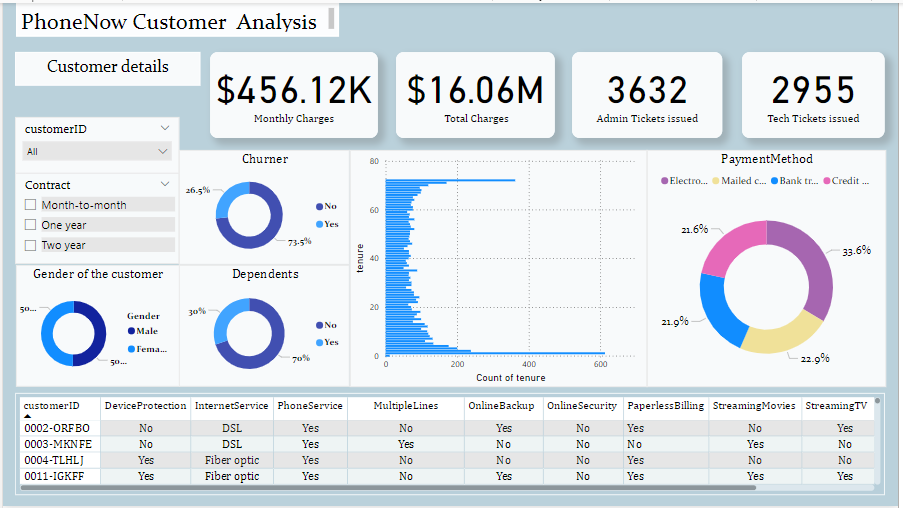

Layout of this report page (visuals, bound fields, positions):
{"tool":"powerbi","page":{"name":"Page 1","canvas":[1280,720],"ordinal":0},"visuals":[{"type":"textbox","box":[18,0,598,48],"z":0},{"type":"textbox","box":[17.5,69.8,265.1,66.7],"z":1000},{"type":"slicer","fields":{"Values":["01 Churn-Dataset.customerID"]},"box":[16.8,137.7,265.4,68.9],"z":2000},{"type":"donutChart","title":" Dependents ","fields":{"Category":["01 Churn-Dataset.Dependents"],"Y":["CountNonNull(01 Churn-Dataset.Dependents)"]},"box":[268.8,374.6,231.8,161.3],"z":3000},{"type":"donutChart","title":"Gender of the customer","fields":{"Category":["01 Churn-Dataset.gender"],"Y":["CountNonNull(01 Churn-Dataset.gender)"]},"box":[16.8,374.6,231.8,161.3],"z":4000},{"type":"tableEx","fields":{"Values":["01 Churn-Dataset.customerID","01 Churn-Dataset.DeviceProtection","01 Churn-Dataset.InternetService","01 Churn-Dataset.PhoneService","01 Churn-Dataset.MultipleLines","01 Churn-Dataset.OnlineBackup","01 Churn-Dataset.OnlineSecurity","01 Churn-Dataset.PaperlessBilling","01 Churn-Dataset.StreamingMovies","01 Churn-Dataset.StreamingTV","01 Churn-Dataset.TechSupport"]},"box":[18.5,552.7,1244.7,154.5],"z":5000},{"type":"slicer","fields":{"Values":["01 Churn-Dataset.Contract"]},"box":[18.5,221.7,230.1,137.7],"z":6000},{"type":"card","fields":{"Values":["Sum(01 Churn-Dataset.MonthlyCharges)"]},"box":[315.8,70.6,220.1,124.3],"z":7000},{"type":"card","fields":{"Values":["Sum(01 Churn-Dataset.TotalCharges)"]},"box":[559.4,70.6,226.8,124.3],"z":8000},{"type":"card","fields":{"Values":["Sum(01 Churn-Dataset.numAdminTickets)"]},"box":[806.3,70.6,206.6,124.3],"z":9000},{"type":"card","fields":{"Values":["Sum(01 Churn-Dataset.numTechTickets)"]},"box":[1049.9,70.6,196.5,124.3],"z":10000},{"type":"donutChart","title":"Churner","fields":{"Category":["01 Churn-Dataset.Churn"],"Y":["CountNonNull(01 Churn-Dataset.Churn)"]},"box":[268.8,210,231.8,149.5],"z":11000},{"type":"pieChart","title":"PaymentMethod","fields":{"Category":["01 Churn-Dataset.PaymentMethod"],"Y":["CountNonNull(01 Churn-Dataset.PaymentMethod)"]},"box":[946.7,210,316.7,321.7],"z":12000},{"type":"barChart","fields":{"Category":["01 Churn-Dataset.tenure"],"Y":["CountNonNull(01 Churn-Dataset.tenure)"]},"box":[521.7,210,400,321.7],"z":12001}]}

Visuals, with their boxes in screenshot pixels (x1, y1, x2, y2), scaled from the page's 1280x720 canvas onto the 903x508 screenshot:
textbox: BBox(13, 0, 435, 34)
textbox: BBox(12, 49, 199, 96)
slicer - 01 Churn-Dataset.customerID: BBox(12, 97, 199, 146)
" Dependents " donutChart: BBox(190, 264, 353, 378)
"Gender of the customer" donutChart: BBox(12, 264, 175, 378)
tableEx - 01 Churn-Dataset.customerID x 01 Churn-Dataset.DeviceProtection: BBox(13, 390, 891, 499)
slicer - 01 Churn-Dataset.Contract: BBox(13, 156, 175, 254)
card - Sum(01 Churn-Dataset.MonthlyCharges): BBox(223, 50, 378, 138)
card - Sum(01 Churn-Dataset.TotalCharges): BBox(395, 50, 555, 138)
card - Sum(01 Churn-Dataset.numAdminTickets): BBox(569, 50, 715, 138)
card - Sum(01 Churn-Dataset.numTechTickets): BBox(741, 50, 879, 138)
"Churner" donutChart: BBox(190, 148, 353, 254)
"PaymentMethod" pieChart: BBox(668, 148, 891, 375)
barChart - 01 Churn-Dataset.tenure x CountNonNull(01 Churn-Dataset.tenure): BBox(368, 148, 650, 375)
